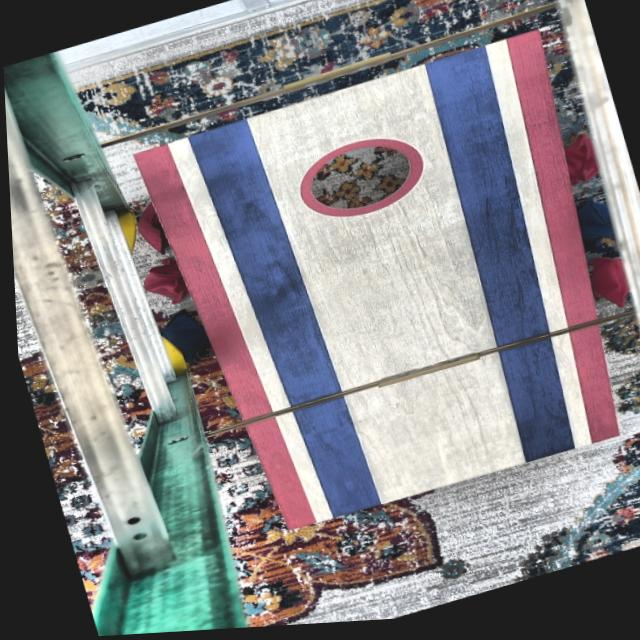blue-bean-bag: (152, 304, 210, 371), (570, 198, 616, 264)
board: (172, 44, 615, 536)
hole: (287, 127, 431, 233)
red-bean-bag: (580, 256, 630, 322), (135, 256, 186, 314), (558, 136, 601, 192), (131, 203, 166, 260)
